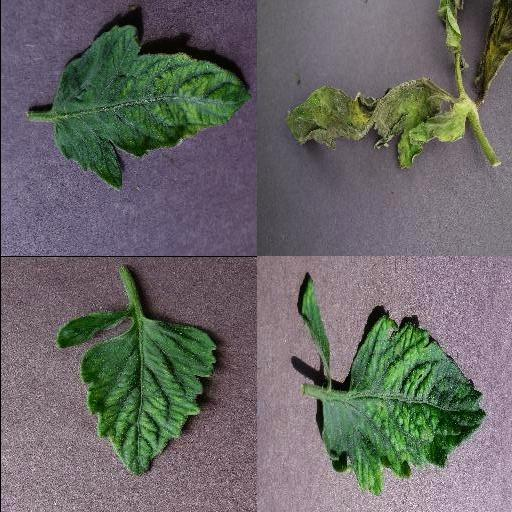Late Blight: (282, 79, 466, 167), (474, 0, 512, 103)
Mosaic Virus: (51, 25, 251, 191), (319, 314, 487, 496), (54, 309, 220, 479), (299, 275, 331, 373)
